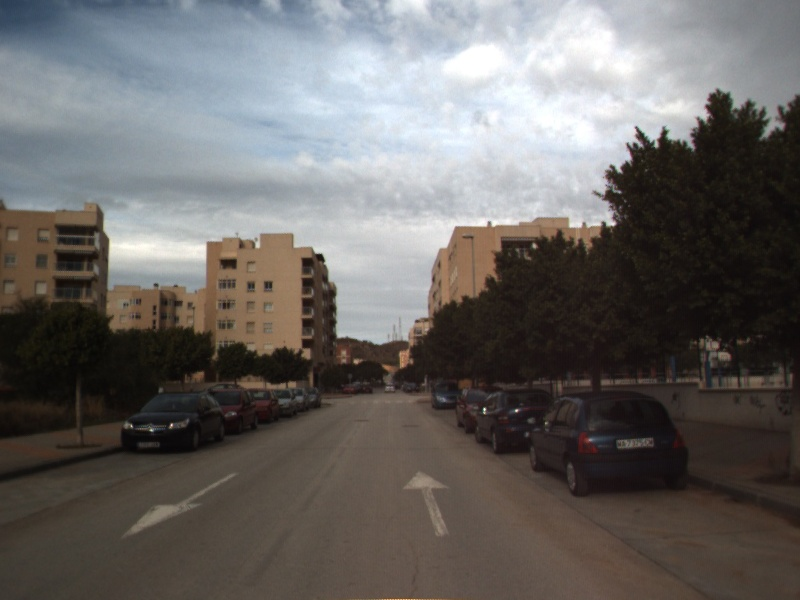STRAIGHT: (401, 468, 452, 539)
